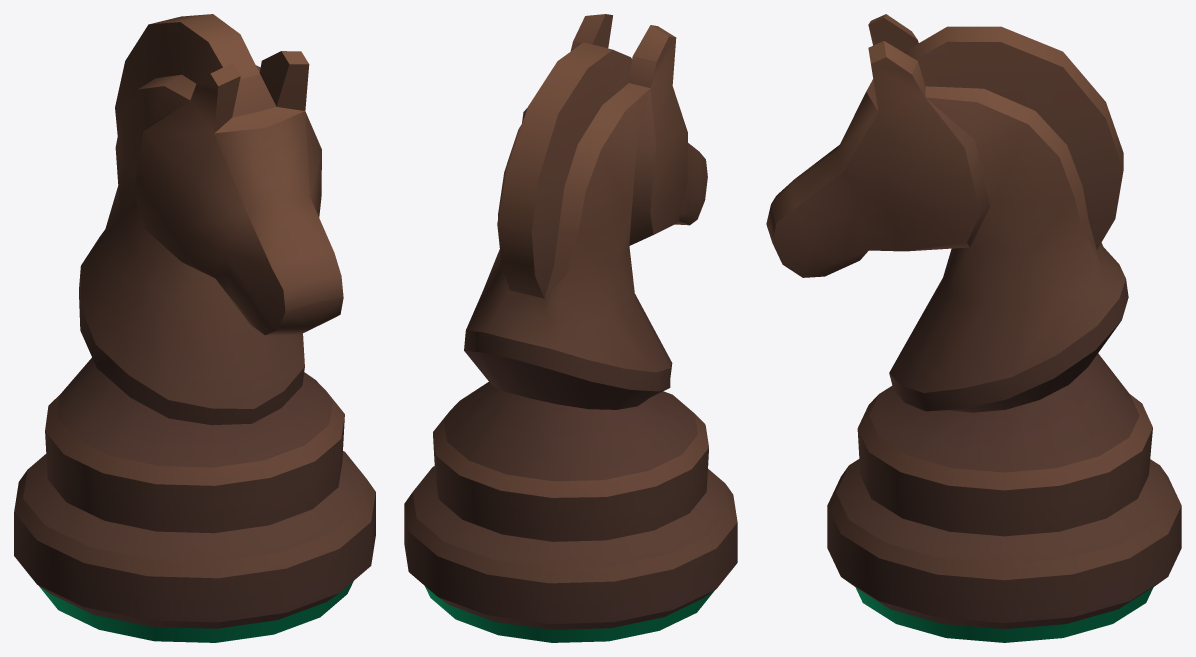
Rendered from chess_black_knight.gltf.
3 renders of one model, left to right at view 1: azimuth 30°, elevation 25°; view 2: azimuth 150°, elevation 25°; view 3: azimuth 270°, elevation 25°, orthographic. The views are drawn at different scales.
Visible parts, largest first — view 1: chess_black_knight; view 2: chess_black_knight; view 3: chess_black_knight.
Boxes of the visible parts, x1,y1,x2,y2 form: chess_black_knight: (14,14,375,642); chess_black_knight: (404,14,737,642); chess_black_knight: (766,14,1181,642).
Bounding box in the file's own units: 0.75 × 1.28 × 0.8793.
Materials: 1 (1 with a texture image).
